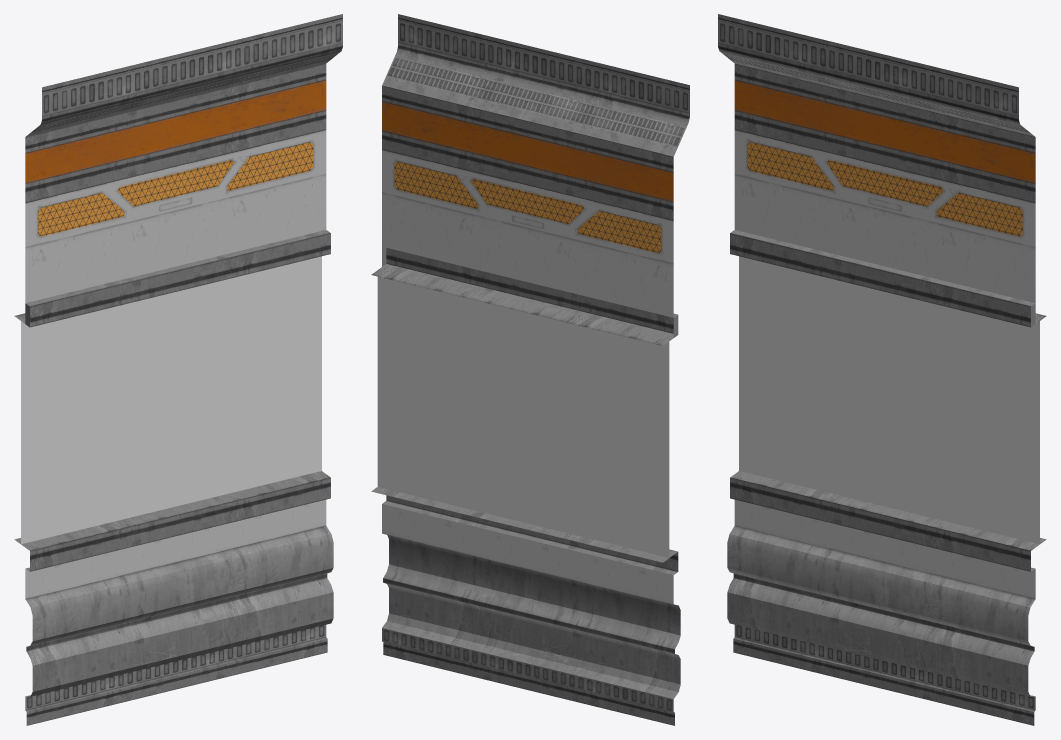
File: Wall_Window.fbx
The picture shows the model from 3 angles, left to right: view 1: azimuth 30°, elevation 25°; view 2: azimuth 150°, elevation 25°; view 3: azimuth 330°, elevation 25°; orthographic projection. The views are drawn at different scales.
Visible parts, largest first — view 1: Wall_Window, Wall_Window_Glass; view 2: Wall_Window, Wall_Window_Glass; view 3: Wall_Window, Wall_Window_Glass.
Boxes of the visible parts, box(x1,y1,x2,y2) form: Wall_Window: box(14, 14, 342, 725); Wall_Window_Glass: box(21, 256, 321, 544); Wall_Window: box(371, 14, 689, 725); Wall_Window_Glass: box(377, 276, 669, 557); Wall_Window: box(718, 14, 1046, 725); Wall_Window_Glass: box(739, 256, 1039, 544).
Bounding box in the file's own units: 4.25 × 8.76 × 0.6781.
